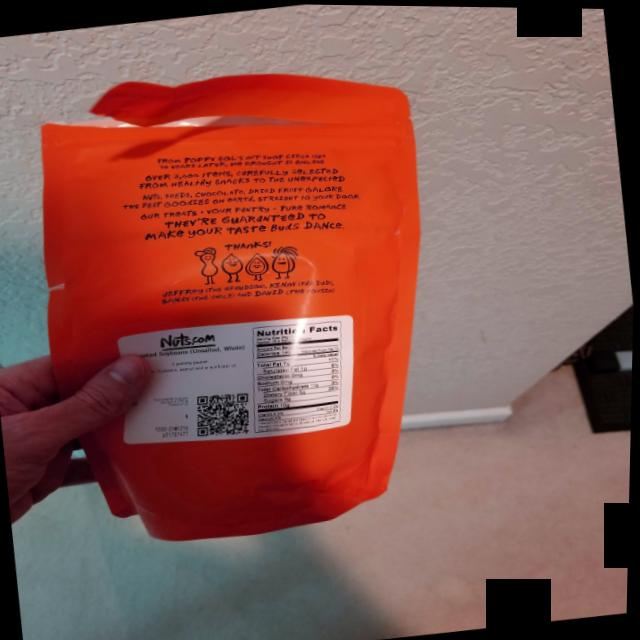QR_CODE: (185, 377, 262, 444)
